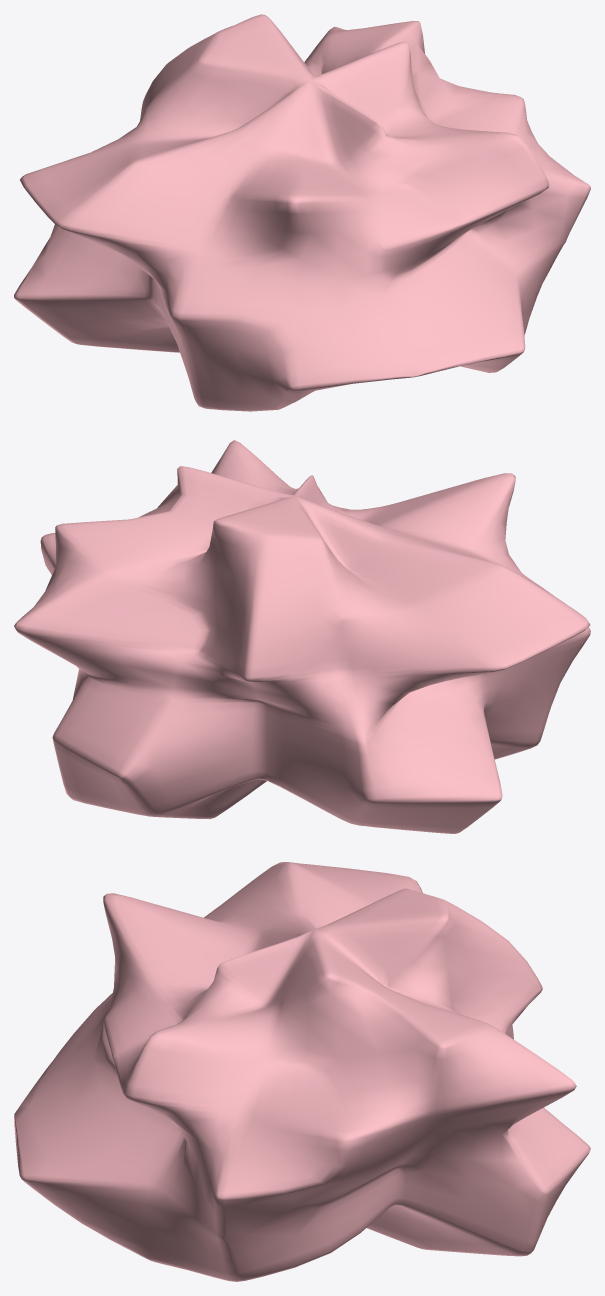
The model's file is PROP_LeafPile_v2.glb.
The picture shows the model from 3 angles, top to bottom: view 1: azimuth 30°, elevation 25°; view 2: azimuth 150°, elevation 25°; view 3: azimuth 270°, elevation 25°; orthographic projection. The views are drawn at different scales.
Parts seen in each view (by area): view 1: PROP_LeafPile_v2; view 2: PROP_LeafPile_v2; view 3: PROP_LeafPile_v2.
Boxes of the visible parts, left/top/right/bottom form: PROP_LeafPile_v2: left=14, top=14, right=590, bottom=411; PROP_LeafPile_v2: left=14, top=440, right=590, bottom=833; PROP_LeafPile_v2: left=14, top=862, right=590, bottom=1281.
Bounding box in the file's own units: 1 × 0.5617 × 0.9162.
